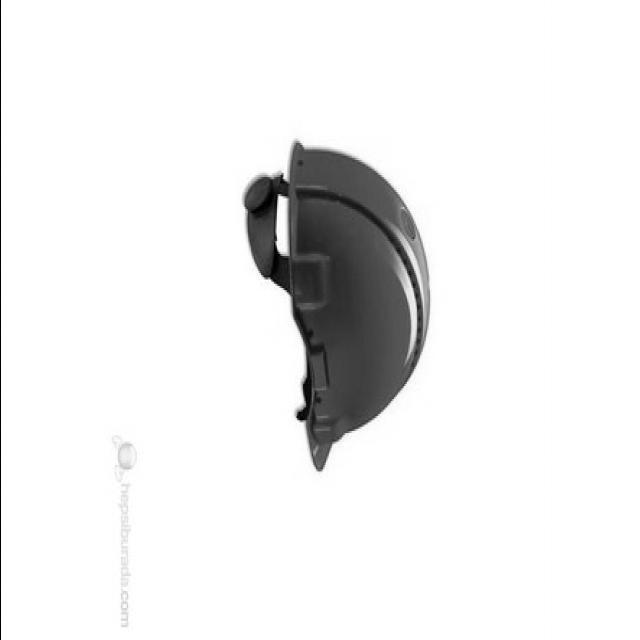safety_helmet: (240, 139, 429, 474)
